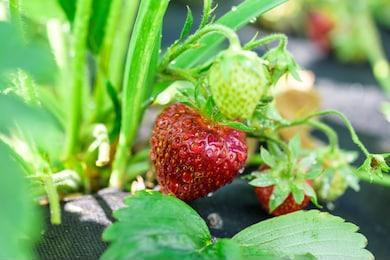Fresa: (148, 91, 253, 207)
